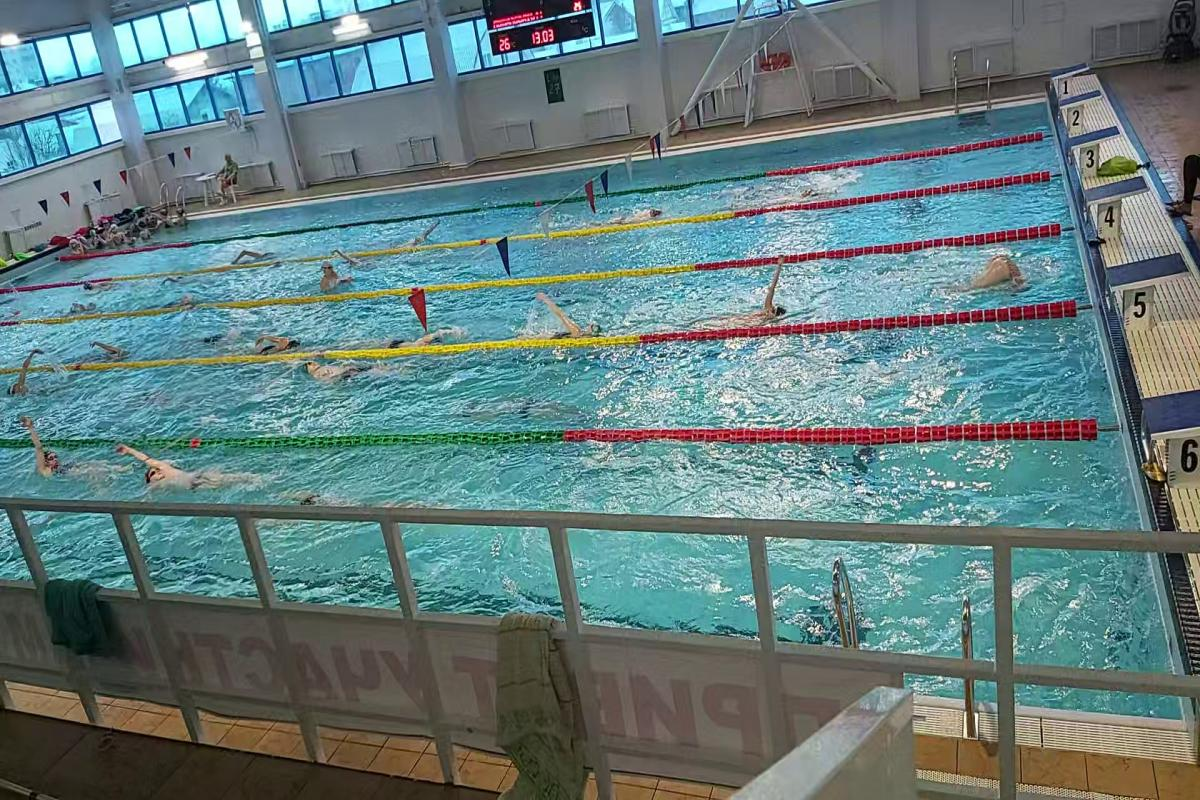swimmer: (112, 446, 257, 494), (528, 286, 610, 341), (951, 255, 1034, 298), (284, 482, 399, 511), (13, 449, 108, 484), (743, 266, 799, 321), (293, 360, 413, 380), (381, 328, 461, 348), (249, 327, 314, 349), (315, 256, 353, 292), (1, 371, 52, 397), (84, 339, 138, 361), (610, 202, 668, 220), (222, 244, 280, 261), (400, 225, 445, 245), (65, 297, 103, 313), (163, 270, 198, 287), (162, 291, 202, 305), (80, 279, 112, 294)
